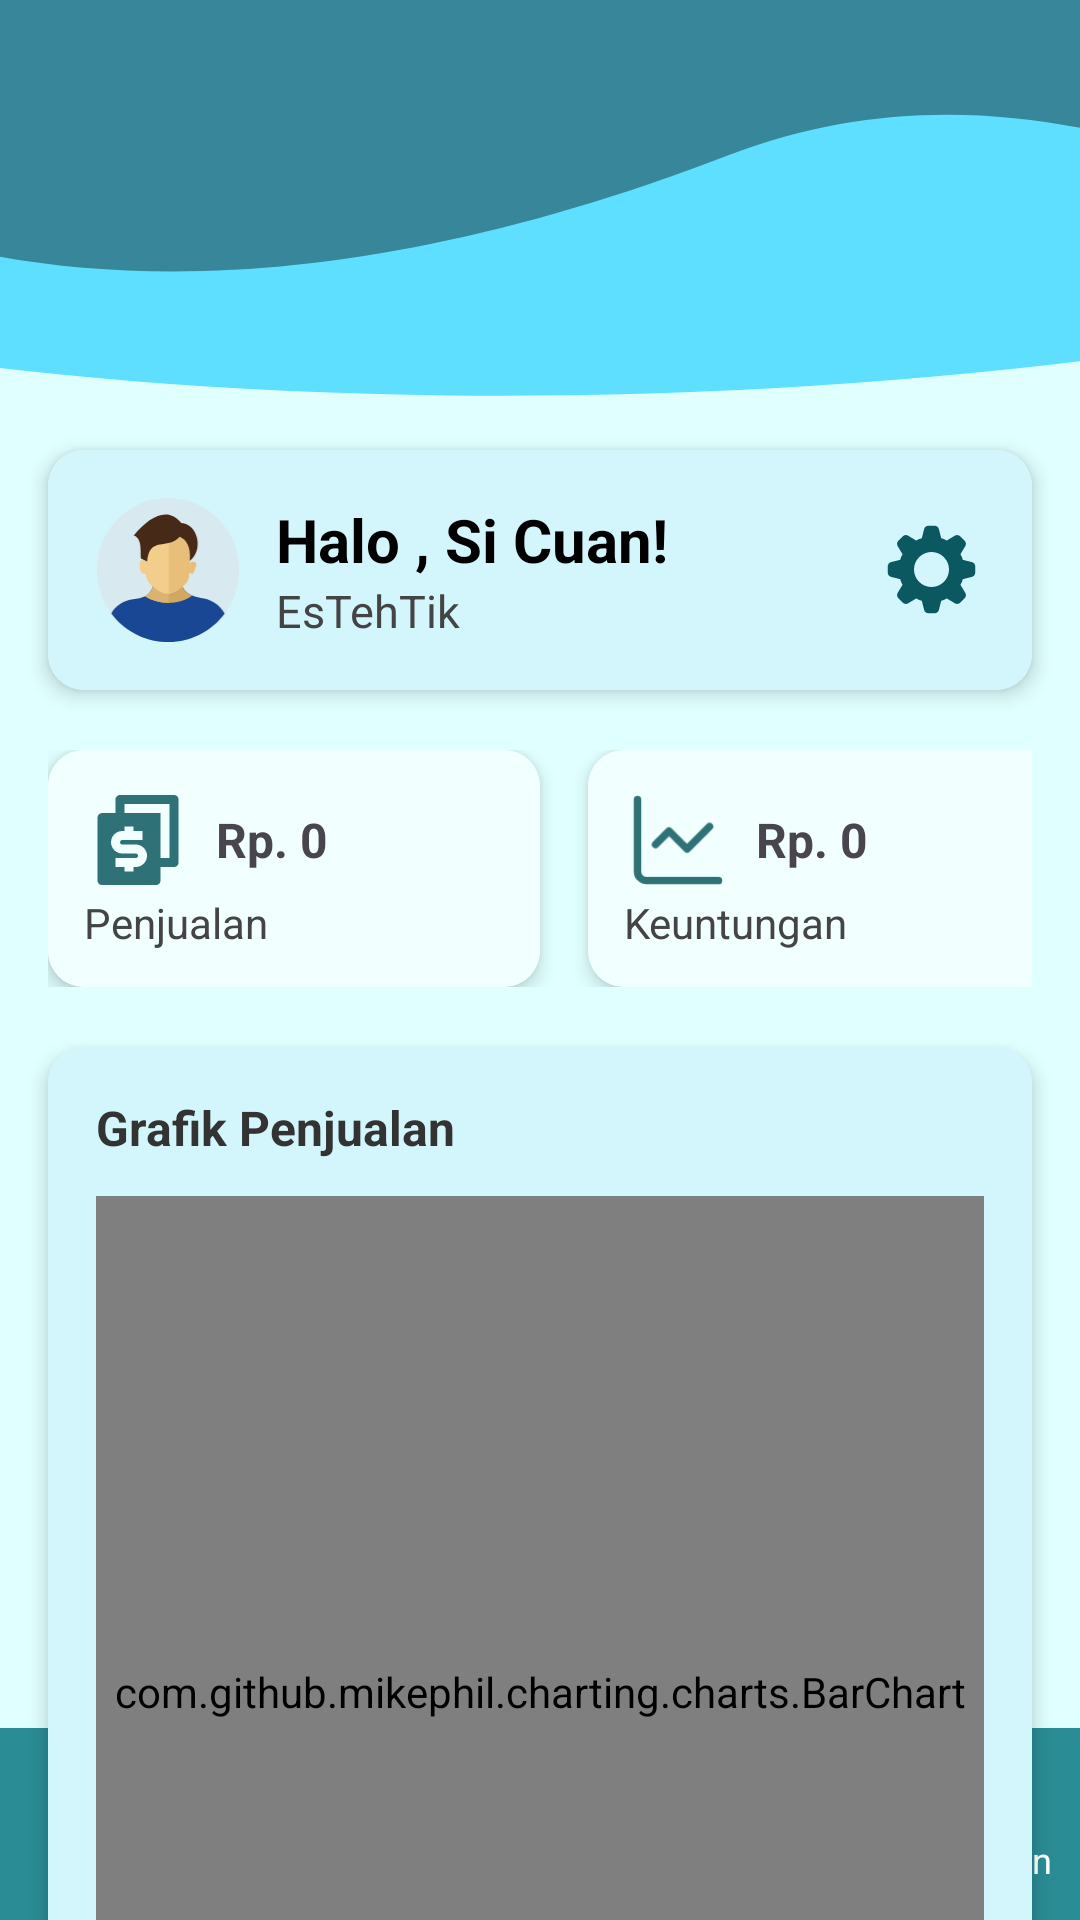

Point at icon controls on the screen. Image size 1080 x 1920, points as (x,y).
profile: (168,578)
setting: (931,569)
